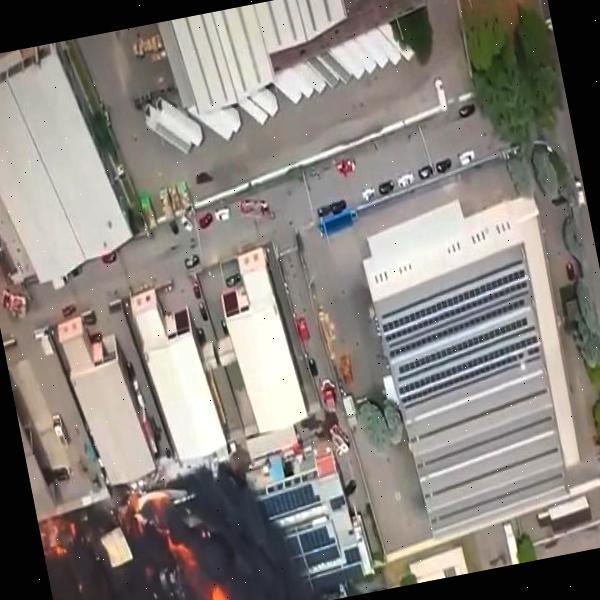smoke: (216, 449, 380, 600), (49, 568, 141, 600)
